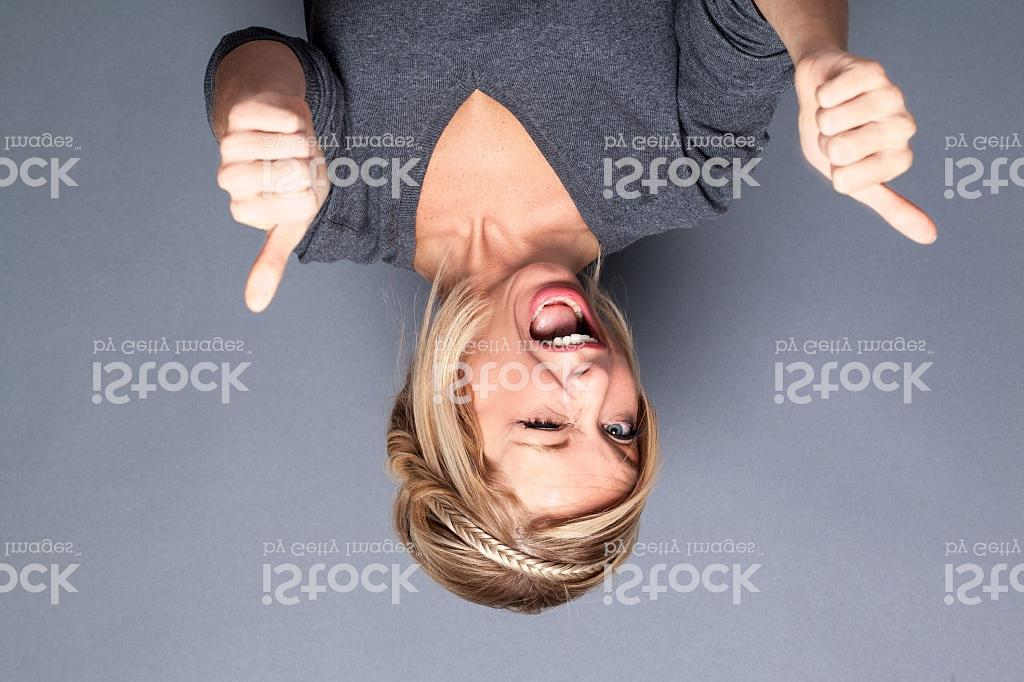thumbsdown: (792, 51, 938, 246), (213, 90, 330, 312)
